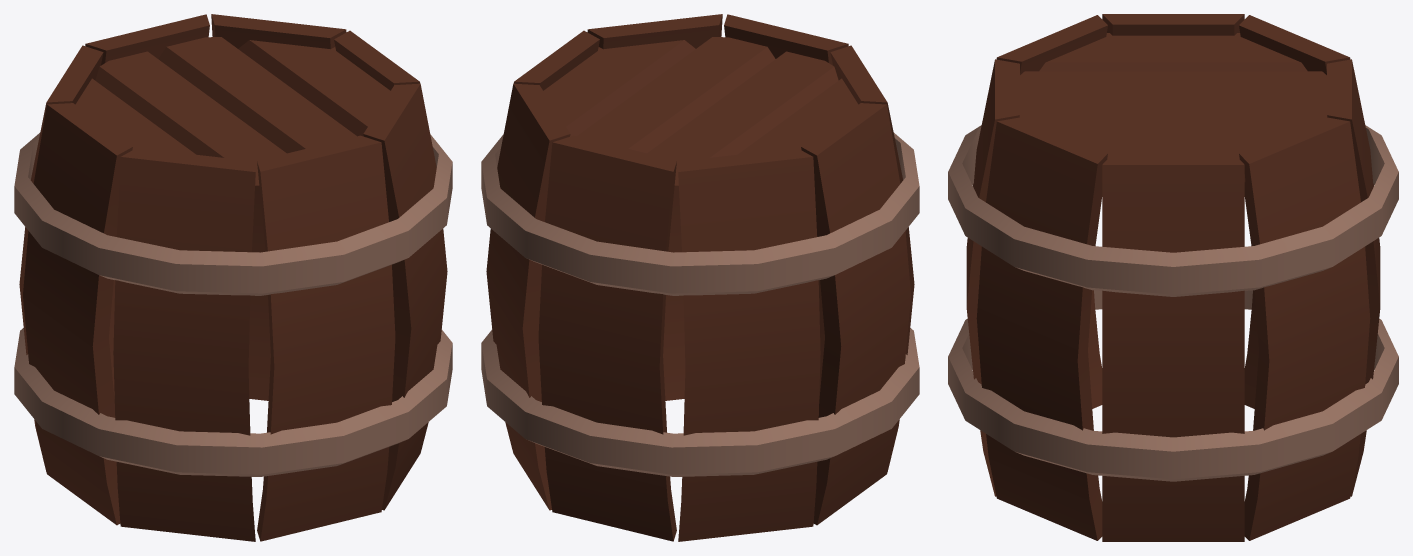
The model's file is barril.glb.
3 views of the same model, side by side, from view 1: azimuth 30°, elevation 25°; view 2: azimuth 150°, elevation 25°; view 3: azimuth 270°, elevation 25° (orthographic).
Visible parts, largest first — view 1: Prop_Barrel; view 2: Prop_Barrel; view 3: Prop_Barrel.
Boxes of the visible parts, x1=… form: Prop_Barrel: x1=14, y1=14, x2=452, y2=541; Prop_Barrel: x1=481, y1=14, x2=919, y2=541; Prop_Barrel: x1=948, y1=14, x2=1398, y2=541.
Size of the model in its own units: 0.7147 by 0.6599 by 0.7147.
Materials: 1 (1 with a texture image).
